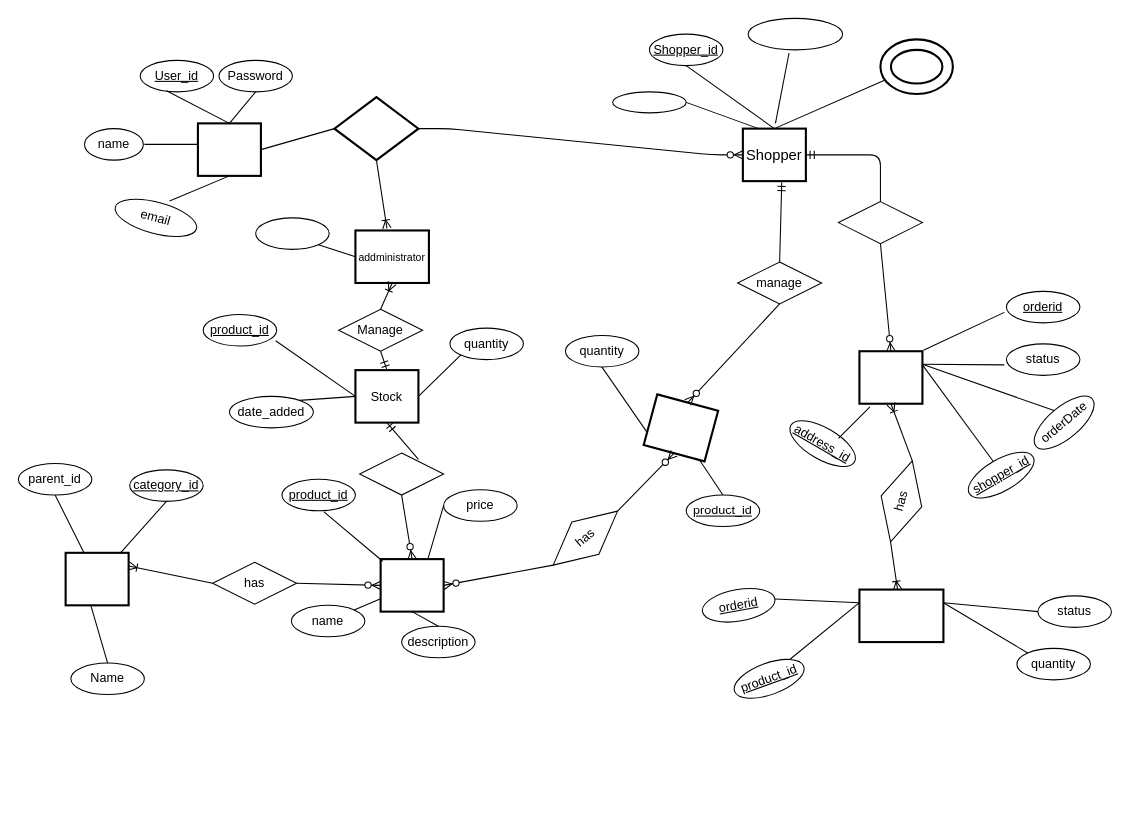
This 1130x828 diagram has some shape labels left out. Here are the shapes that lost their labels. From the top down, the centre of each, then its label:
At (x=795, y=33): "phone_no".
At (x=916, y=66): "Address".
At (x=649, y=102): "sex".
At (x=376, y=128): "Login".
At (x=228, y=149): "user".
At (x=292, y=233): "adminId".
At (x=879, y=222): "placed".
At (x=890, y=377): "order".
At (x=680, y=427): "Shopping_cart".
At (x=401, y=473): "update".
At (x=96, y=578): "product_category".
At (x=411, y=585): "product".
At (x=901, y=615): "ordersItem".
